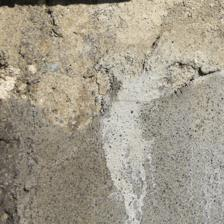Crack: (81, 10, 143, 57), (20, 1, 58, 65), (0, 48, 53, 71)
